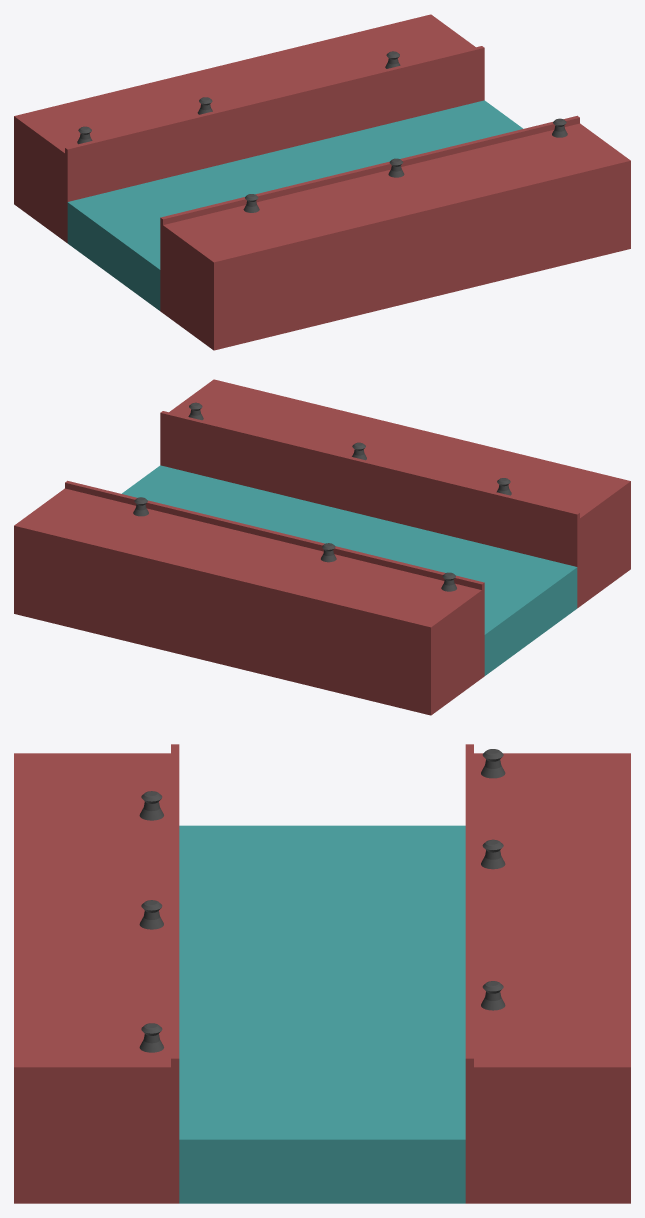
The model's file is Level Prototype.fbx.
3 views of the same model, one above another, from view 1: azimuth 30°, elevation 25°; view 2: azimuth 150°, elevation 25°; view 3: azimuth 270°, elevation 25° (orthographic). The views are drawn at different scales.
Parts seen in each view (by area): view 1: polySurface6, polySurface2, pCube1; view 2: polySurface2, polySurface6, pCube1; view 3: pCube1, polySurface2, polySurface6.
Part boxes in pixels (<box>): polySurface6: <box>160,115,630,350</box>; polySurface2: <box>14,14,484,243</box>; pCube1: <box>67,100,523,310</box>; polySurface2: <box>14,480,484,715</box>; polySurface6: <box>160,379,630,608</box>; pCube1: <box>121,465,577,675</box>; pCube1: <box>179,825,465,1203</box>; polySurface2: <box>465,744,630,1203</box>; polySurface6: <box>14,744,179,1203</box>.
Bounding box in the file's own units: 3590 × 841 × 2980.
